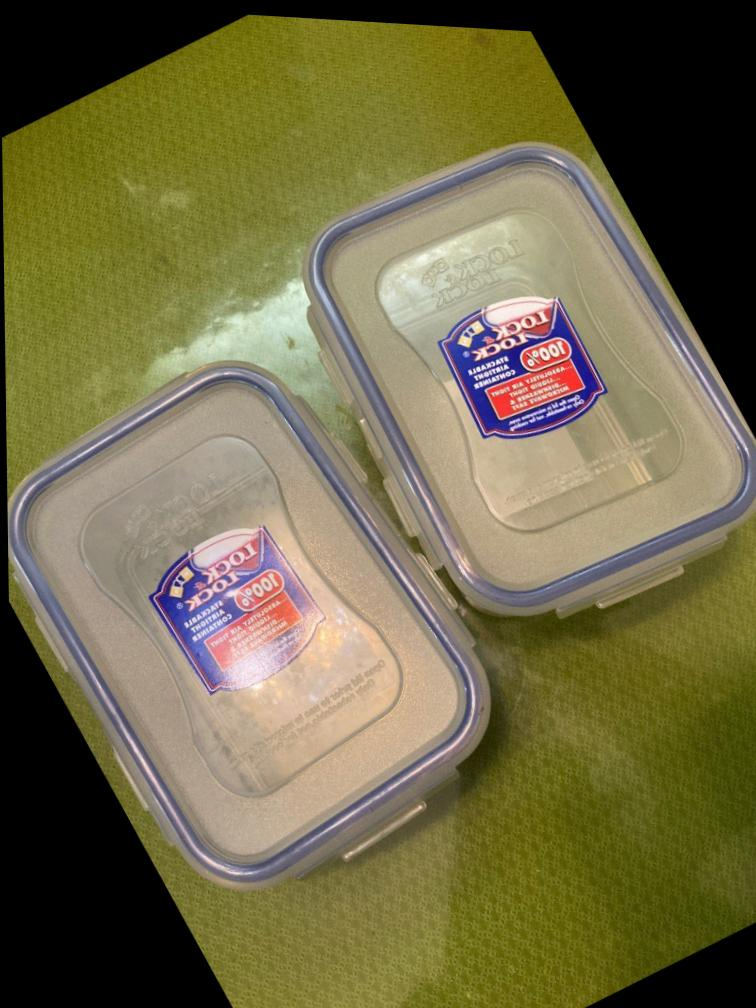plastic: (11, 363, 488, 888), (307, 144, 752, 615)
